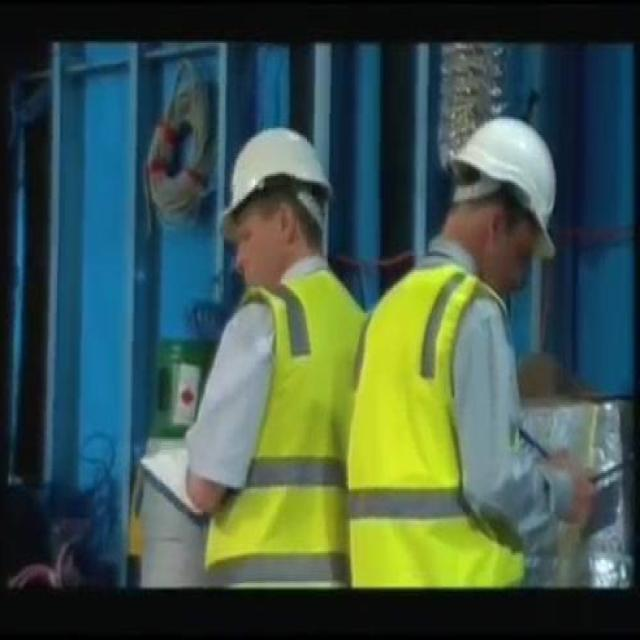helmet: (427, 100, 567, 262), (211, 116, 348, 246)
jacket: (342, 274, 550, 592), (200, 266, 372, 580)
